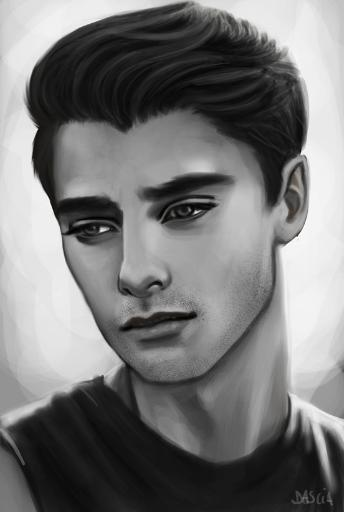left_eye: (160, 200, 221, 228)
left_lip_corner: (182, 307, 202, 333)
right_eye: (70, 219, 119, 241)
right_lip_corner: (118, 322, 133, 340)
